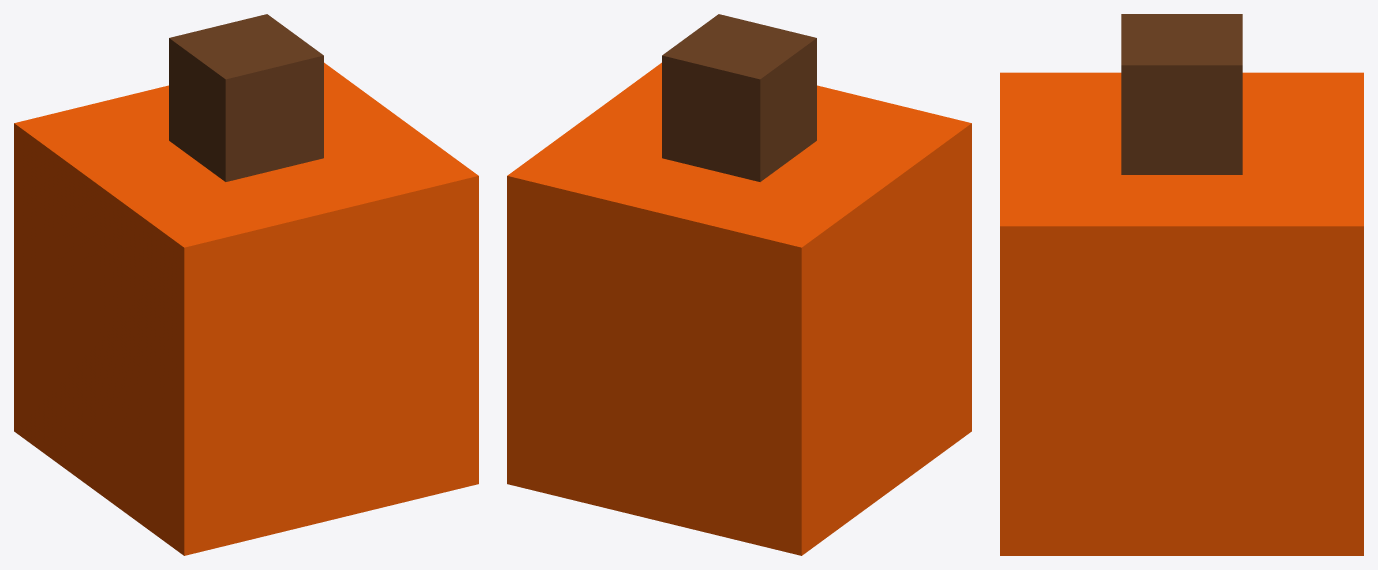
Rendered from pumpkin.dae.
3 views of the same model, side by side, from view 1: azimuth 30°, elevation 25°; view 2: azimuth 150°, elevation 25°; view 3: azimuth 270°, elevation 25° (orthographic). The views are drawn at different scales.
Visible parts, largest first — view 1: pumpkin; view 2: pumpkin; view 3: pumpkin.
Boxes of the visible parts, x1,y1,x2,y2 form: pumpkin: (14, 14, 478, 555); pumpkin: (507, 14, 971, 555); pumpkin: (1000, 14, 1363, 555).
Size of the model in its own units: 0.3 by 0.4 by 0.3.
1 material, 1 textured.
